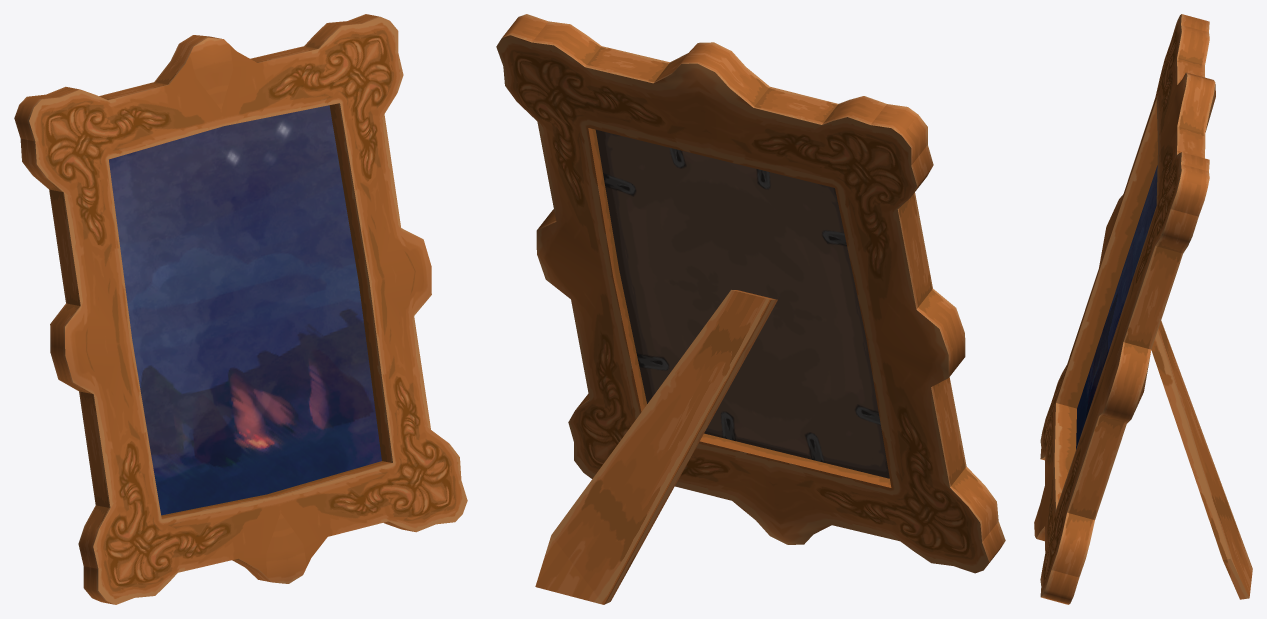
File: SM_PROP_painting_interior_10.fbx
3 views of the same model, side by side, from view 1: azimuth 30°, elevation 25°; view 2: azimuth 150°, elevation 25°; view 3: azimuth 270°, elevation 25° (orthographic). The views are drawn at different scales.
Parts seen in each view (by area): view 1: SM_PROP_painting_interior_10; view 2: SM_PROP_painting_interior_10; view 3: SM_PROP_painting_interior_10.
Boxes of the visible parts, <box> form: SM_PROP_painting_interior_10: <box>14,14,467,604</box>; SM_PROP_painting_interior_10: <box>496,14,1005,604</box>; SM_PROP_painting_interior_10: <box>1034,14,1252,604</box>.
Bounding box in the file's own units: 26.87 × 34.44 × 14.56.
